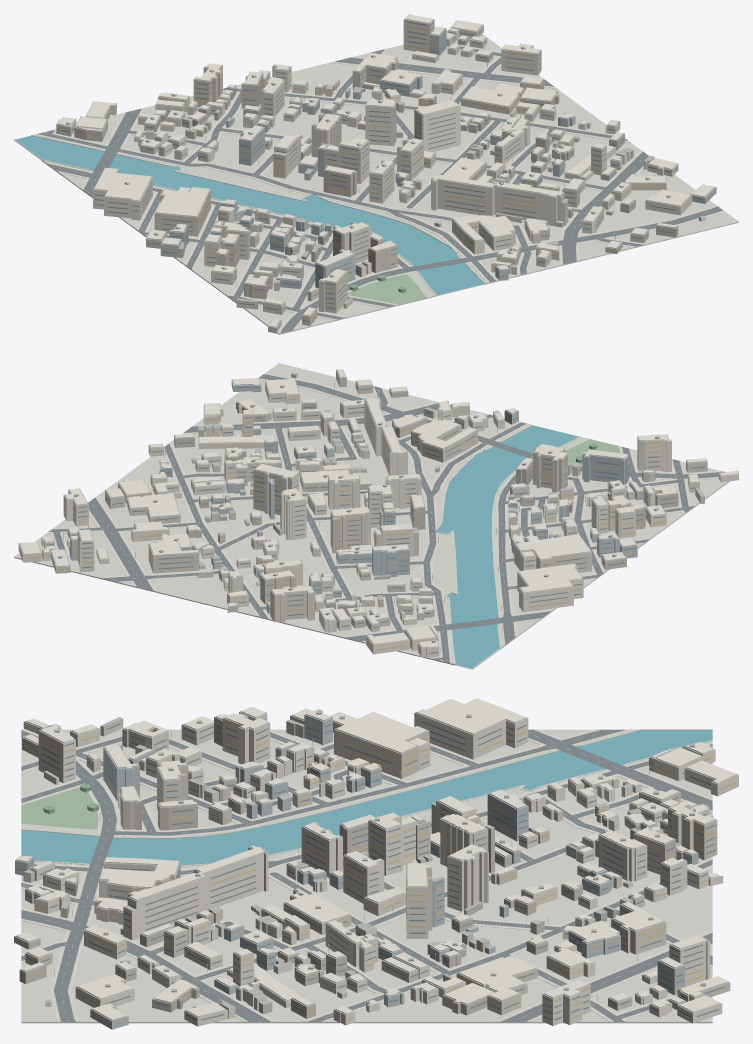
3 views of the same model, one above another, from view 1: azimuth 30°, elevation 25°; view 2: azimuth 150°, elevation 25°; view 3: azimuth 270°, elevation 25° (orthographic). The views are drawn at different scales.
Parts seen in each view (by area): view 1: city; view 2: city; view 3: city.
Boxes of the visible parts, <box> form: city: <box>14,14,738,334</box>; city: <box>14,363,738,669</box>; city: <box>14,698,738,1029</box>.
Size of the model in its own units: 526 by 42.95 by 524.
